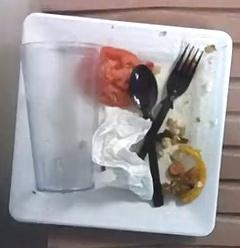tomato: (100, 47, 140, 107)
vegetables: (156, 118, 206, 203)
